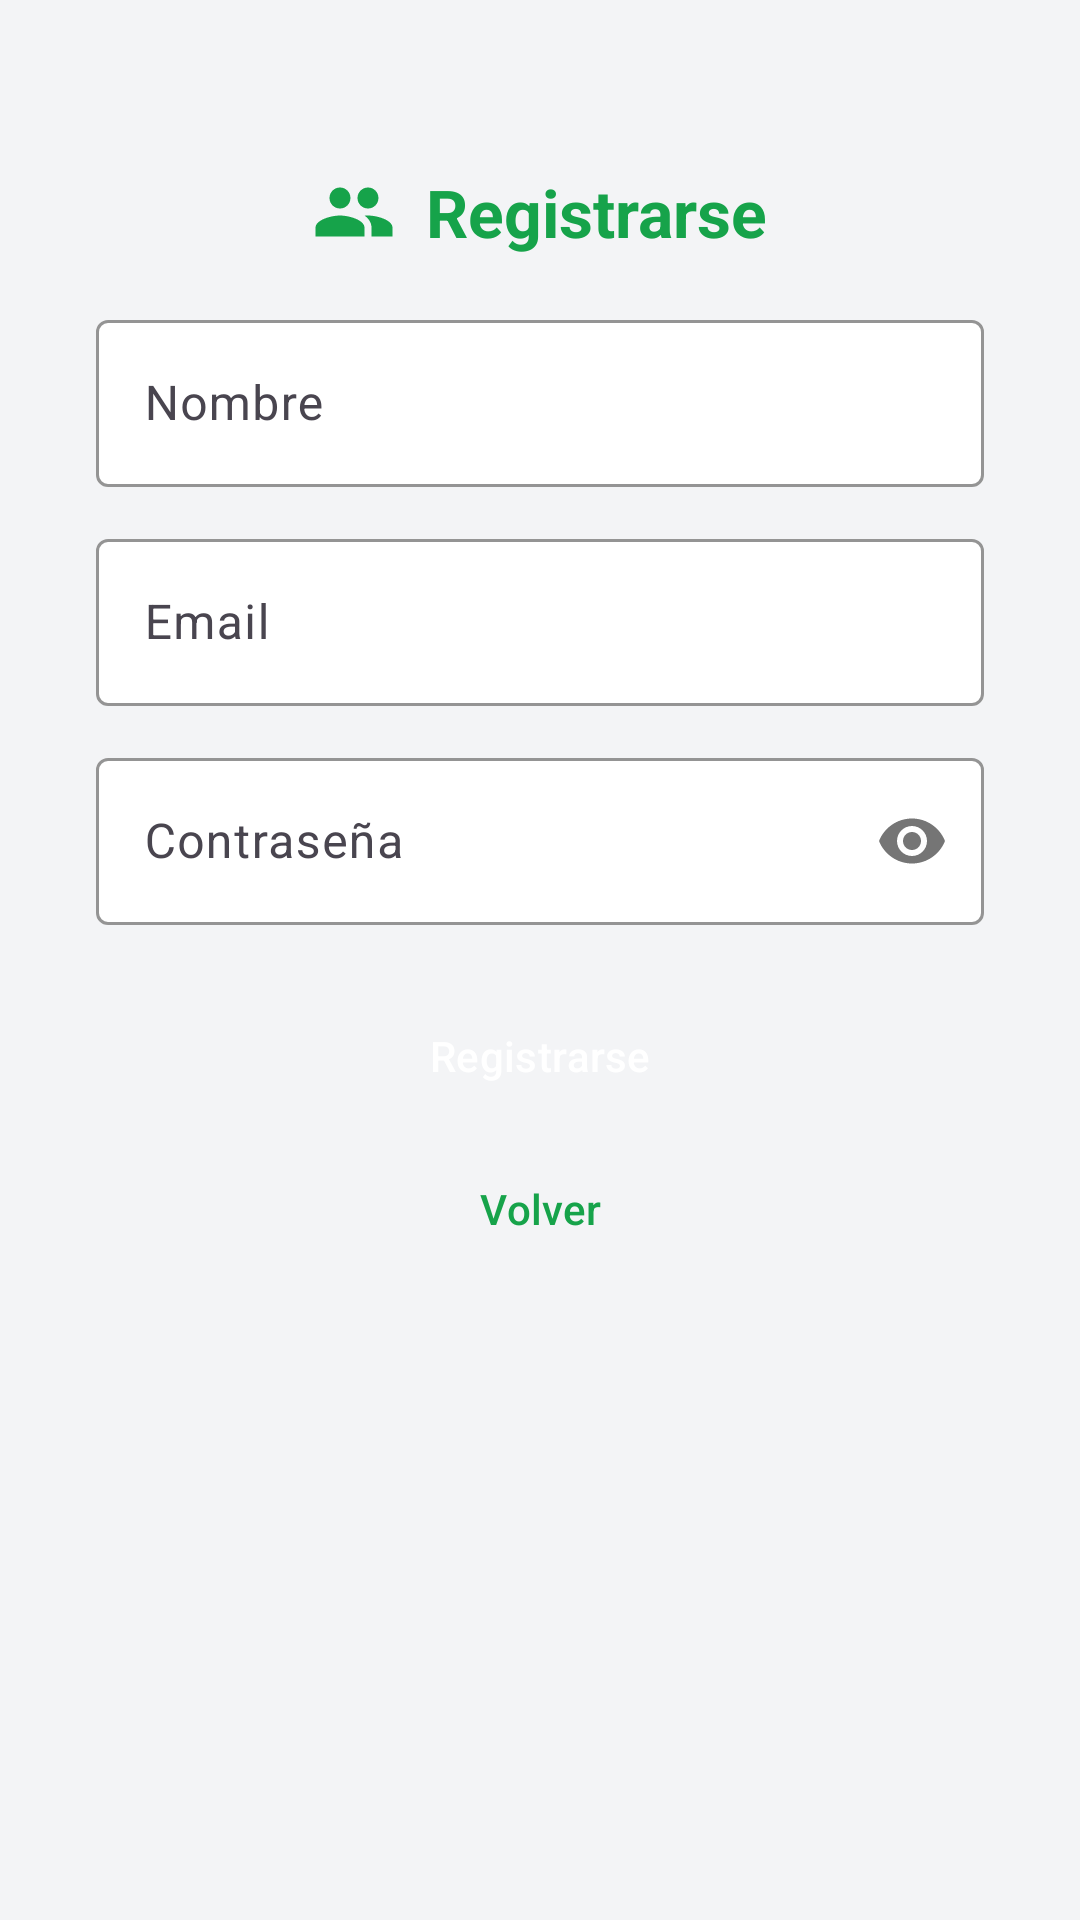

Icons on this 1080px×1920px Android screen, each with its box as (x1, y1, x2, y2):
usuarios: (315, 187, 393, 237)
